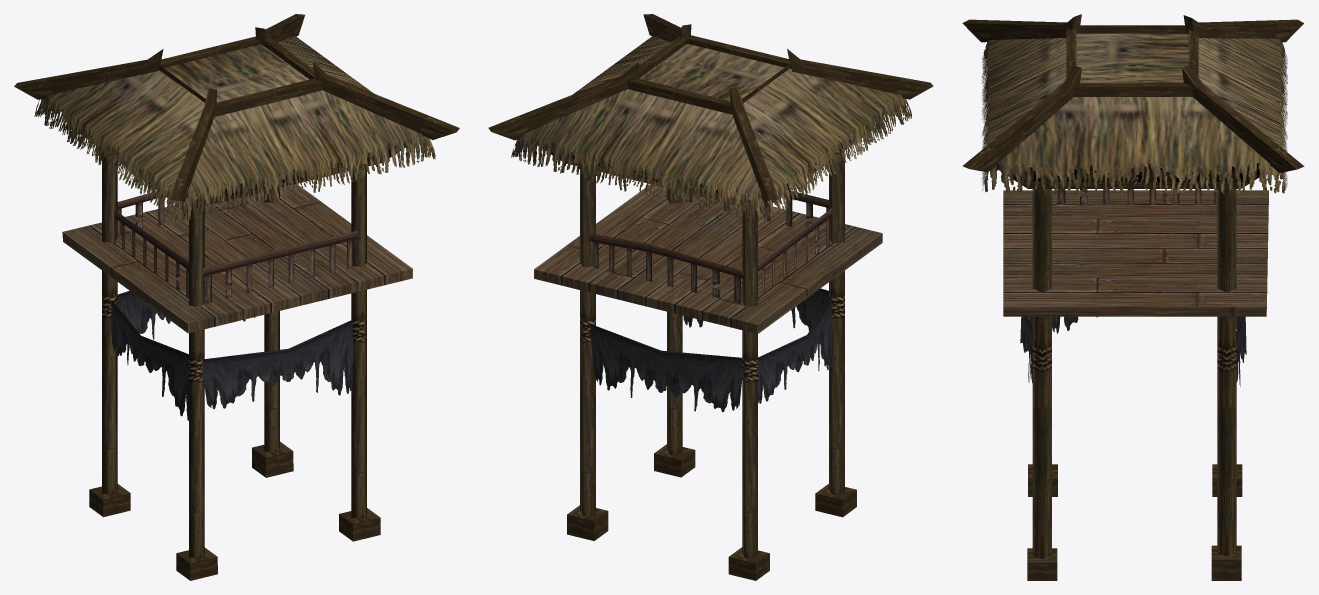
Rendered from minju_yc_32.fbx.
3 views of the same model, side by side, from view 1: azimuth 30°, elevation 25°; view 2: azimuth 150°, elevation 25°; view 3: azimuth 270°, elevation 25° (orthographic). The views are drawn at different scales.
Parts seen in each view (by area): view 1: minju_yc_32; view 2: minju_yc_32; view 3: minju_yc_32.
Part boxes in pixels (x1,y1,x2,y2): minju_yc_32: (14, 14, 459, 580); minju_yc_32: (488, 14, 933, 580); minju_yc_32: (962, 14, 1304, 580).
Size of what is drawn, in the model's own units: 713 by 1087 by 685.
